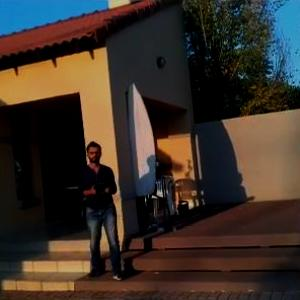follow: (75, 136, 127, 284)
